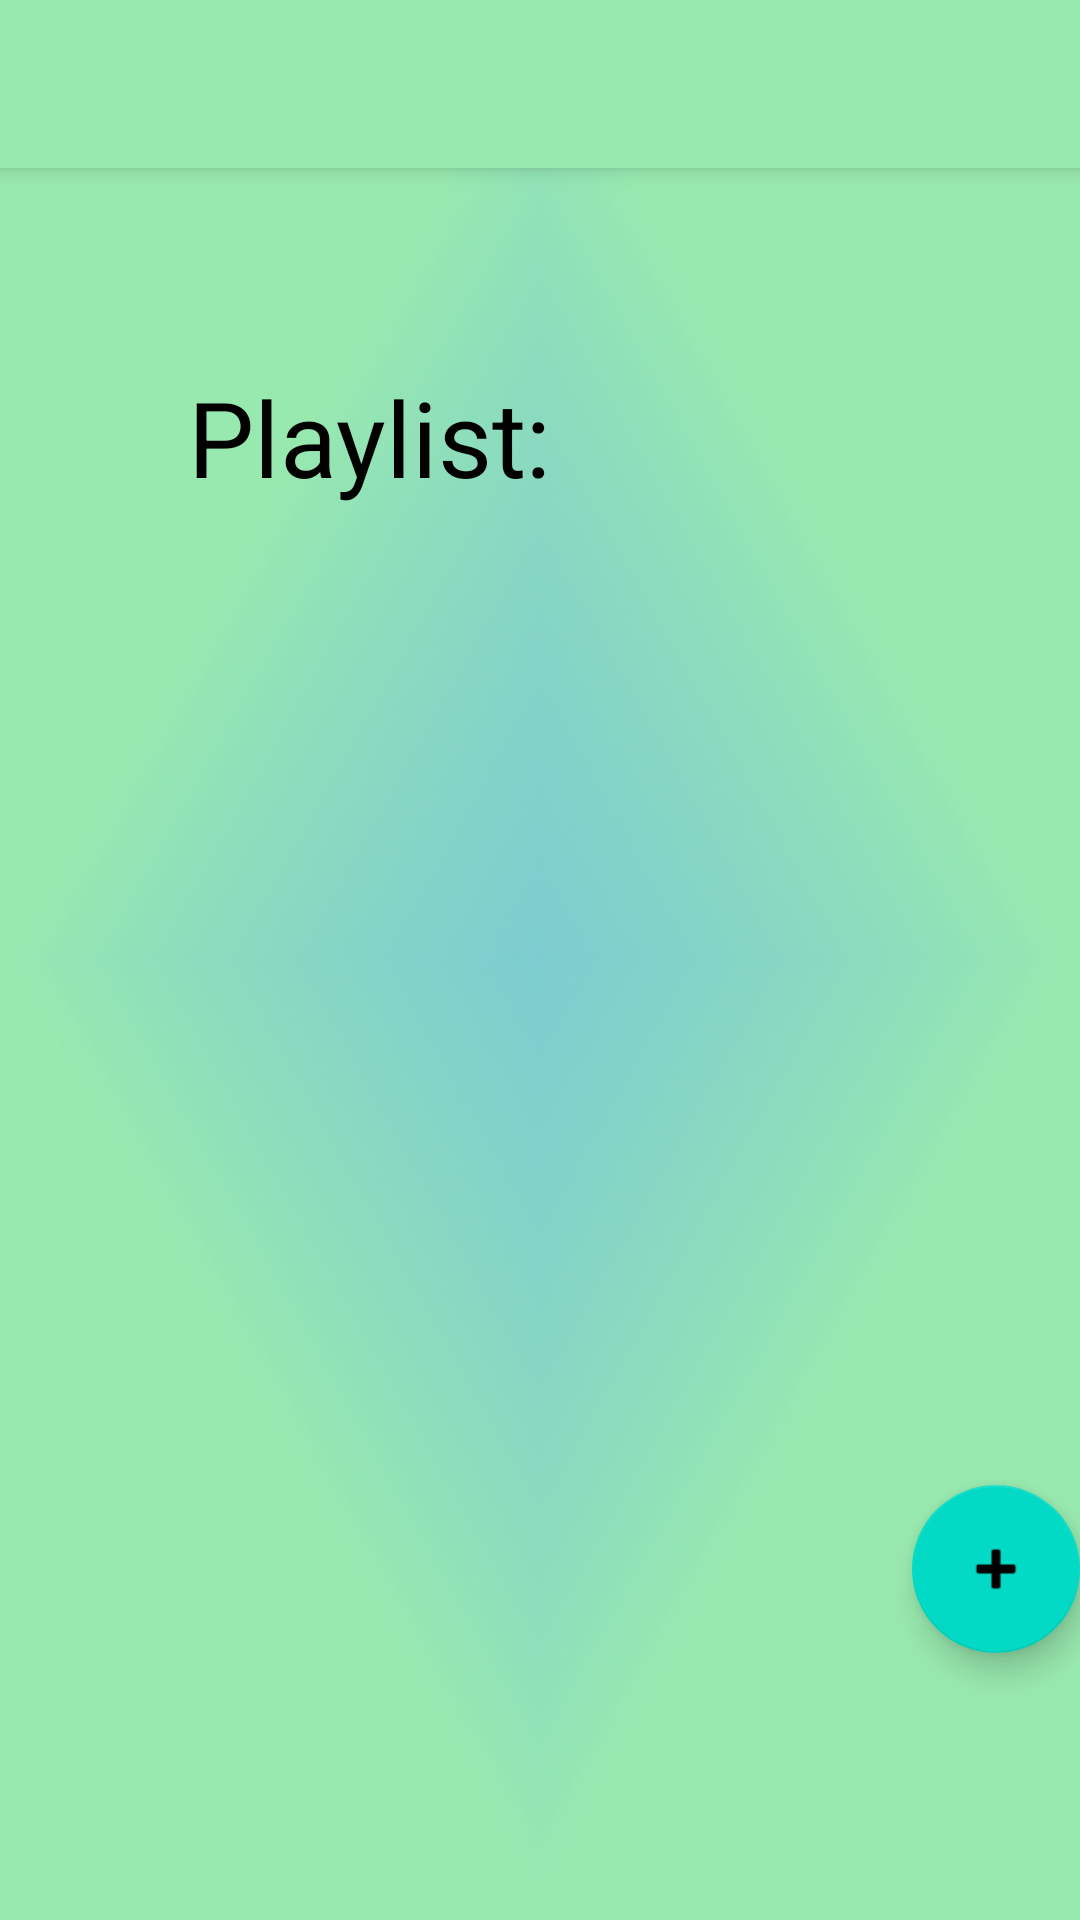

Icons on this 1080×1920 Android screen, each with its box as (x1,y1,x2,y2):
Add playlist: (912,1485,1080,1653)
